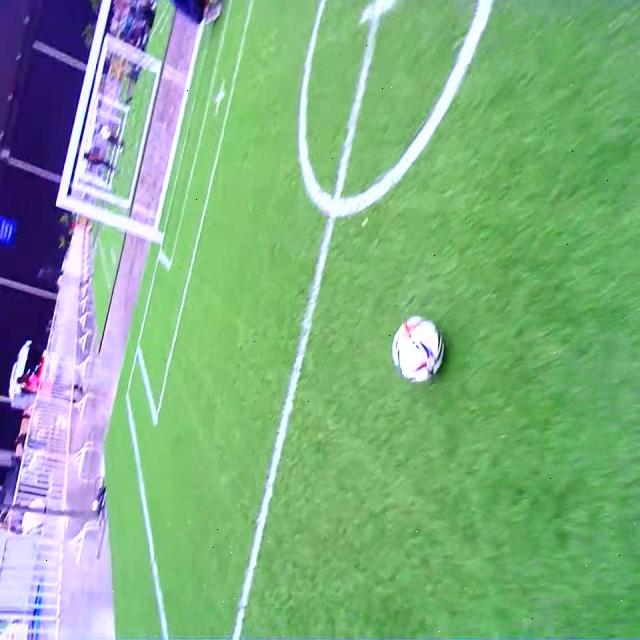ball: (393, 316, 443, 382)
